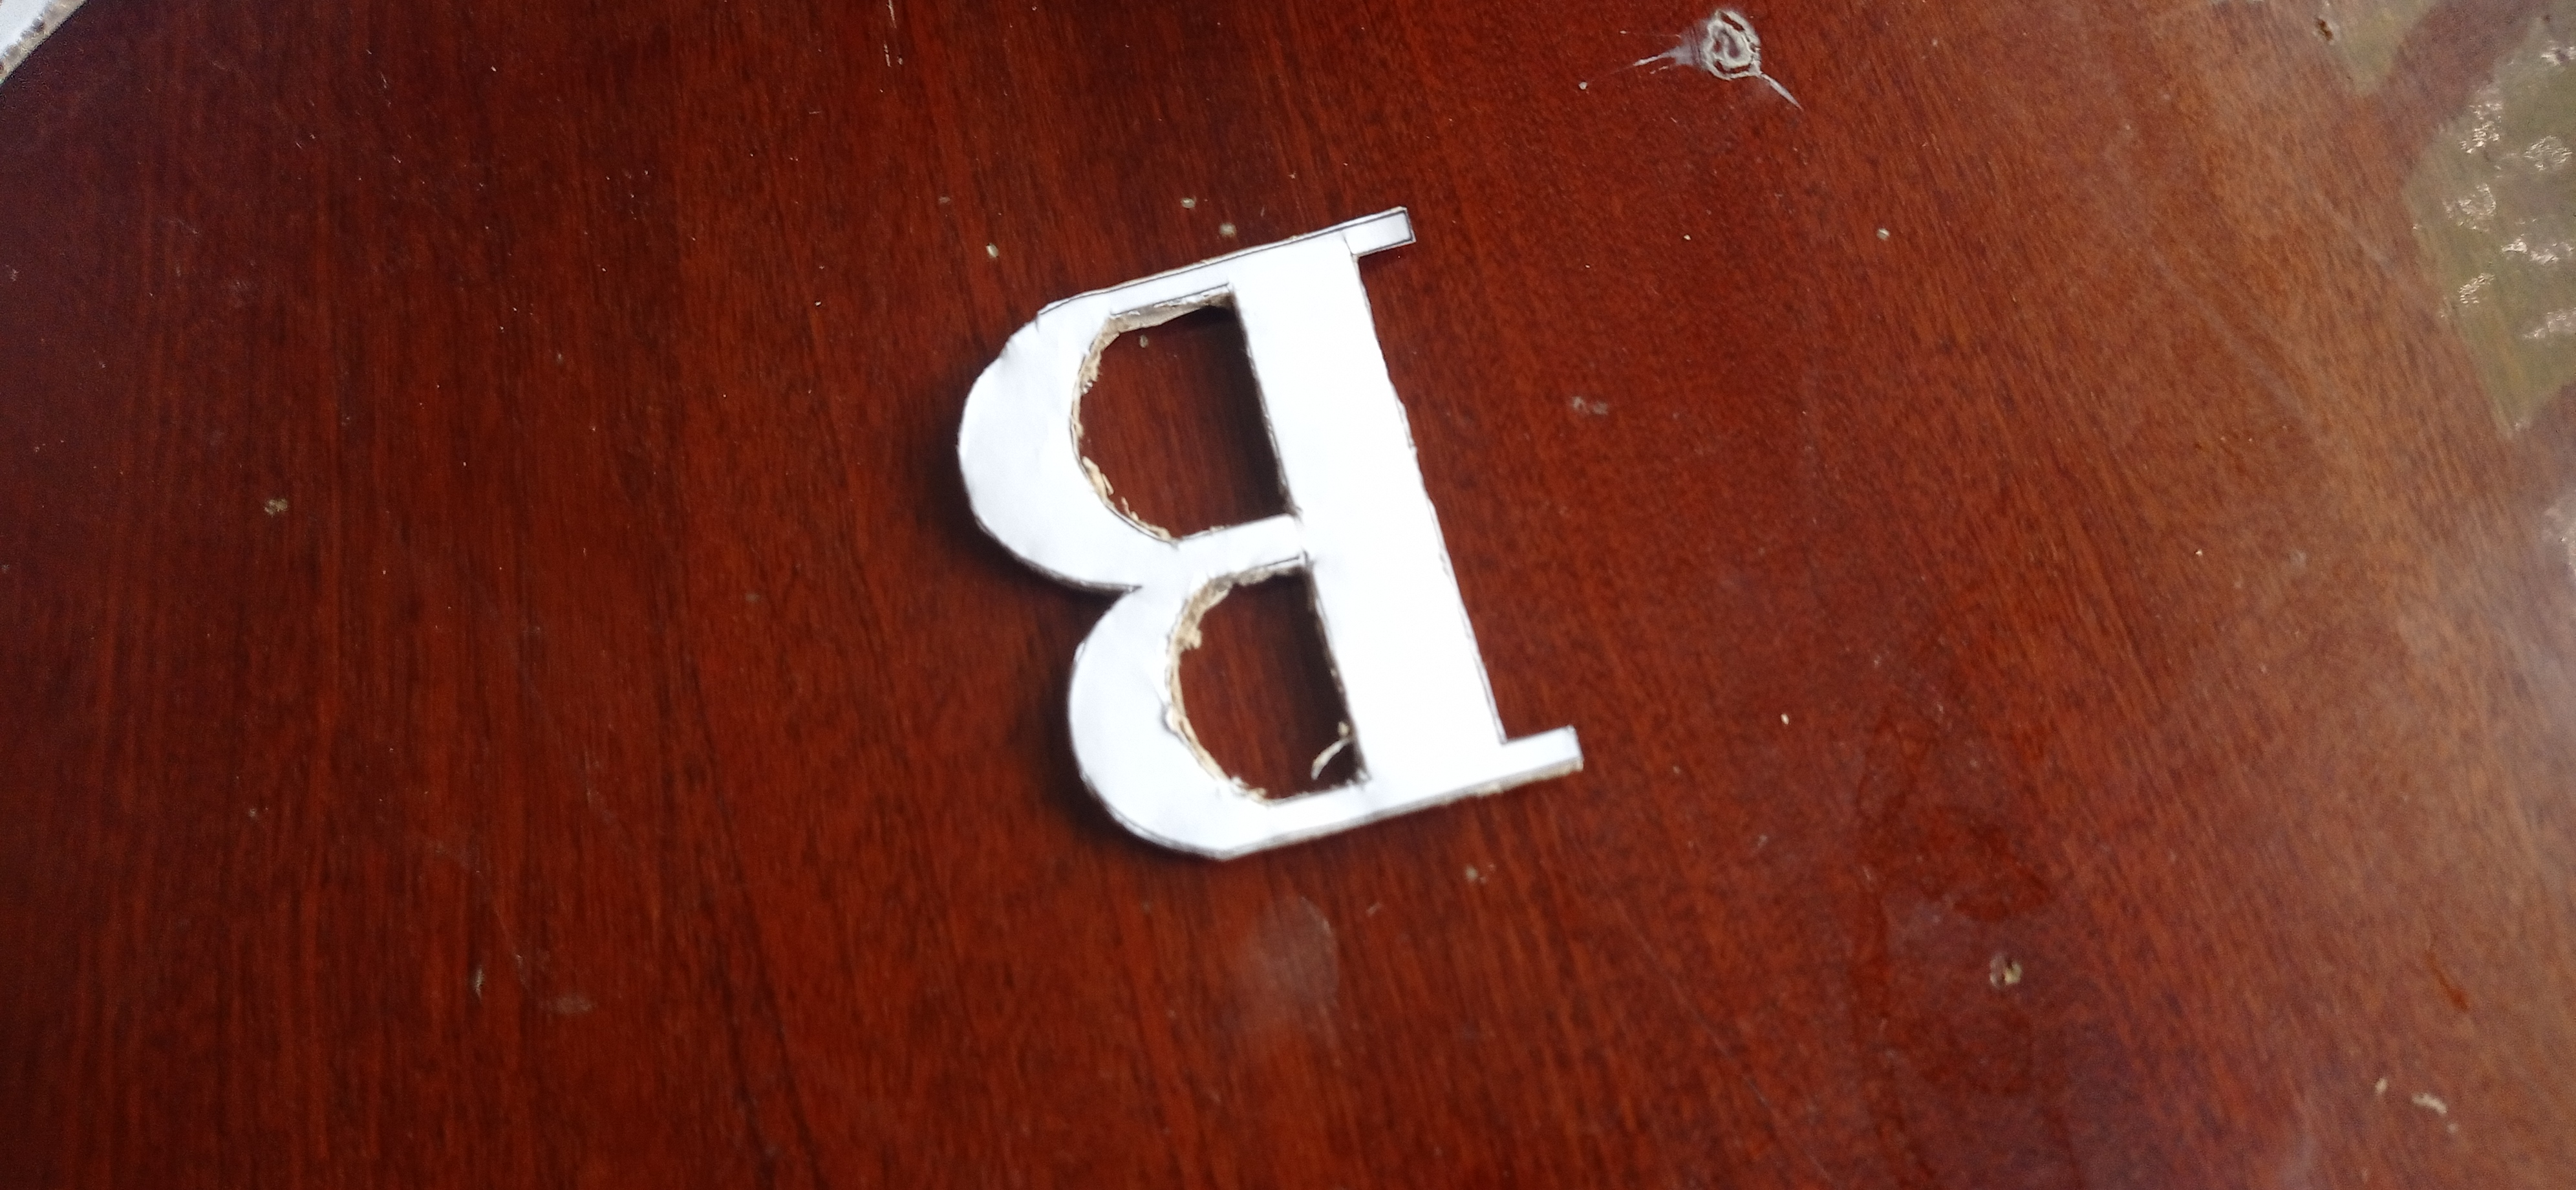v: (951, 204, 1589, 863)
